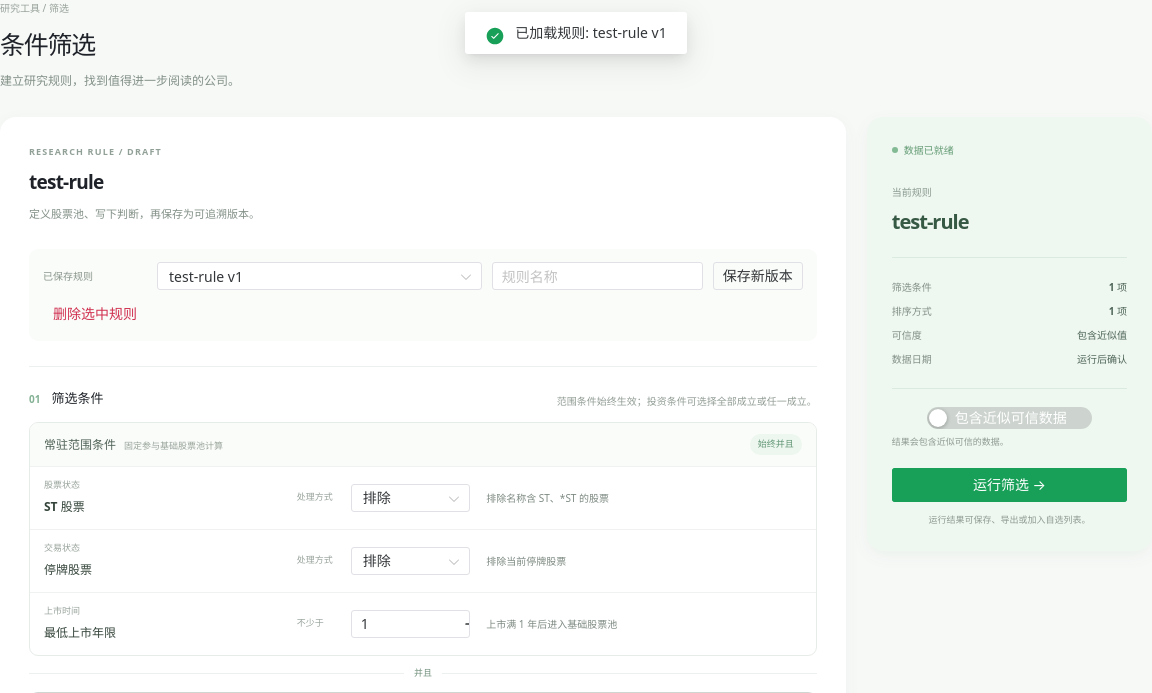
Test: ScreeningPage 运行筛选流程（PRD §12 SC8） › 挂载后恢复草稿并加载规则，选择规则后可运行筛选
Expected: the element showing "test-rule v1" is shown, [157, 262, 482, 290]
Step 1. Click the button "运行筛选 →" → (1009, 485), box [892, 468, 1127, 502]
(page scrolled)
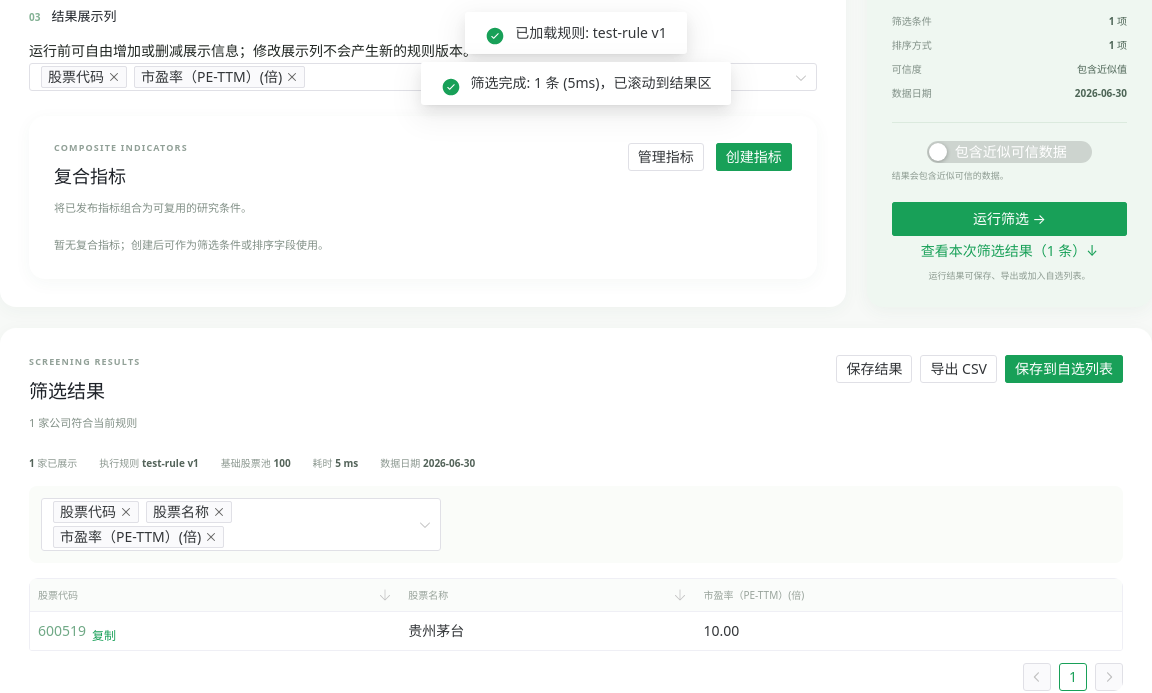
Expected: the text "600519" is shown, [38, 621, 86, 640]
Expected: the text "贵州茅台" is shown, [400, 612, 696, 650]
